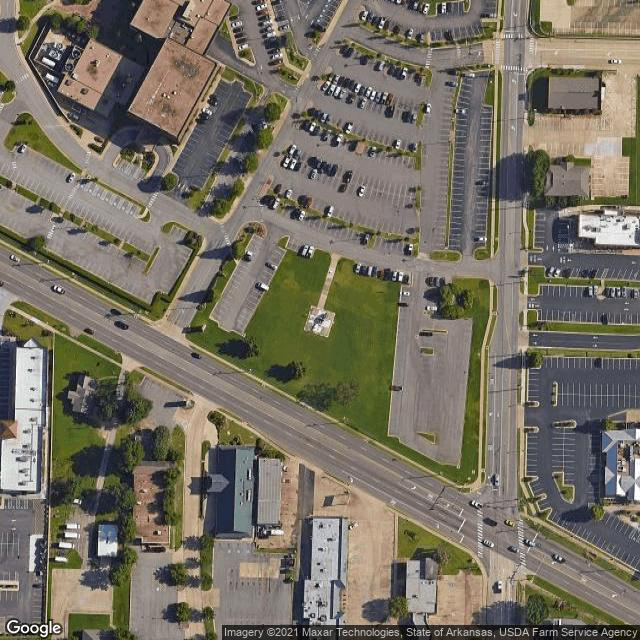Helipad: (304, 299, 336, 340)
